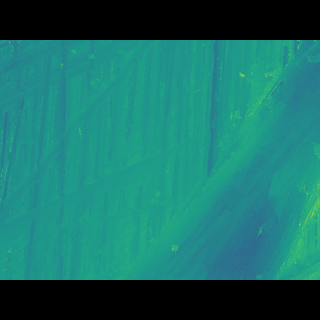Loch: (114, 70, 320, 252), (0, 69, 156, 210)
